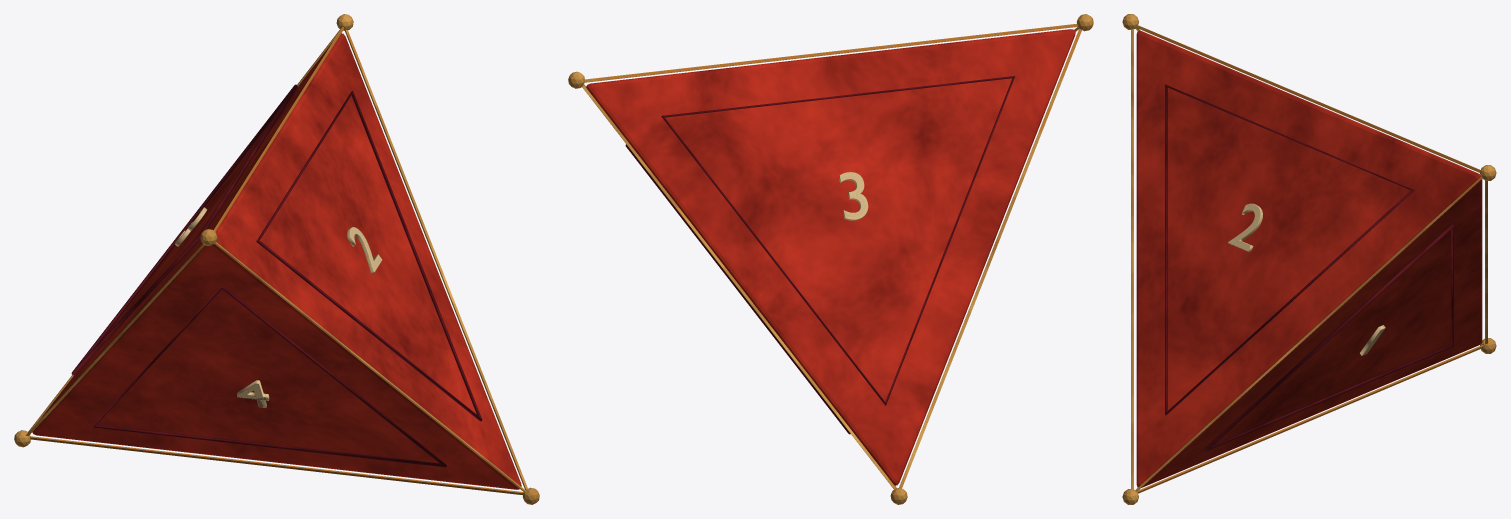
Rendered from D4_四面骰_朱砂鎏金_baked.glb.
The picture shows the model from 3 angles, left to right: view 1: azimuth 30°, elevation 25°; view 2: azimuth 150°, elevation 25°; view 3: azimuth 270°, elevation 25°; orthographic projection. The views are drawn at different scales.
Visible parts, largest first — view 1: D4_Body_4_Faces, D4_Occult_Face_Borders, D4_Aged_Bronze_Edges, D4_Vertex_Studs; view 2: D4_Body_4_Faces, D4_Aged_Bronze_Edges, D4_Occult_Face_Borders, D4_Face_03_3, D4_Vertex_Studs; view 3: D4_Body_4_Faces, D4_Aged_Bronze_Edges, D4_Occult_Face_Borders, D4_Vertex_Studs, D4_Face_02_2.
Boxes of the visible parts, bbox=[...] form: D4_Body_4_Faces: bbox=[32, 33, 521, 489]; D4_Occult_Face_Borders: bbox=[71, 84, 482, 467]; D4_Aged_Bronze_Edges: bbox=[26, 26, 527, 495]; D4_Vertex_Studs: bbox=[14, 14, 539, 504]; D4_Body_4_Faces: bbox=[586, 29, 1075, 485]; D4_Aged_Bronze_Edges: bbox=[582, 23, 1081, 489]; D4_Occult_Face_Borders: bbox=[625, 76, 1015, 434]; D4_Face_03_3: bbox=[839, 172, 868, 220]; D4_Vertex_Studs: bbox=[568, 14, 1093, 504]; D4_Body_4_Faces: bbox=[1136, 31, 1482, 487]; D4_Aged_Bronze_Edges: bbox=[1131, 24, 1487, 493]; D4_Occult_Face_Borders: bbox=[1165, 84, 1453, 451]; D4_Vertex_Studs: bbox=[1122, 14, 1496, 504]; D4_Face_02_2: bbox=[1228, 203, 1262, 252].
Bounding box in the file's own units: 2.45 × 2.45 × 2.45.
Materials: 8 (8 with a texture image).
